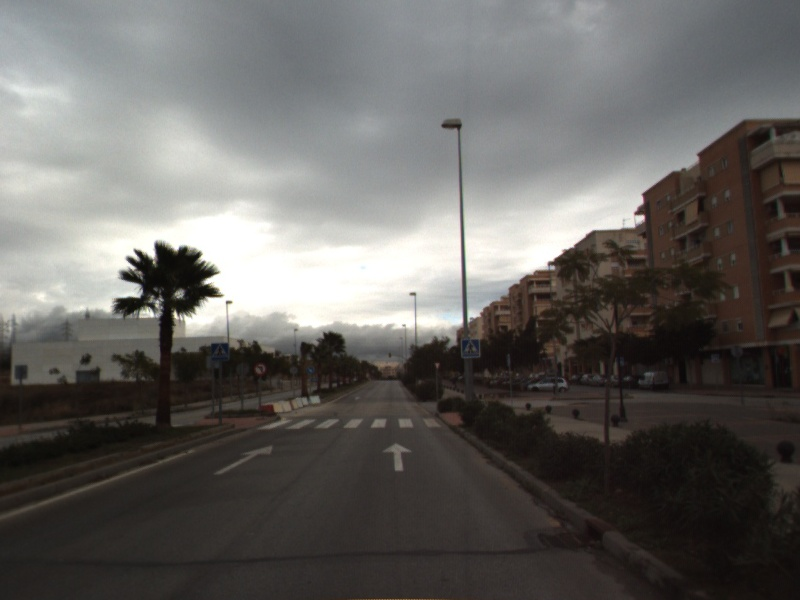STRAIGHT: (211, 443, 274, 477), (380, 441, 414, 473)
